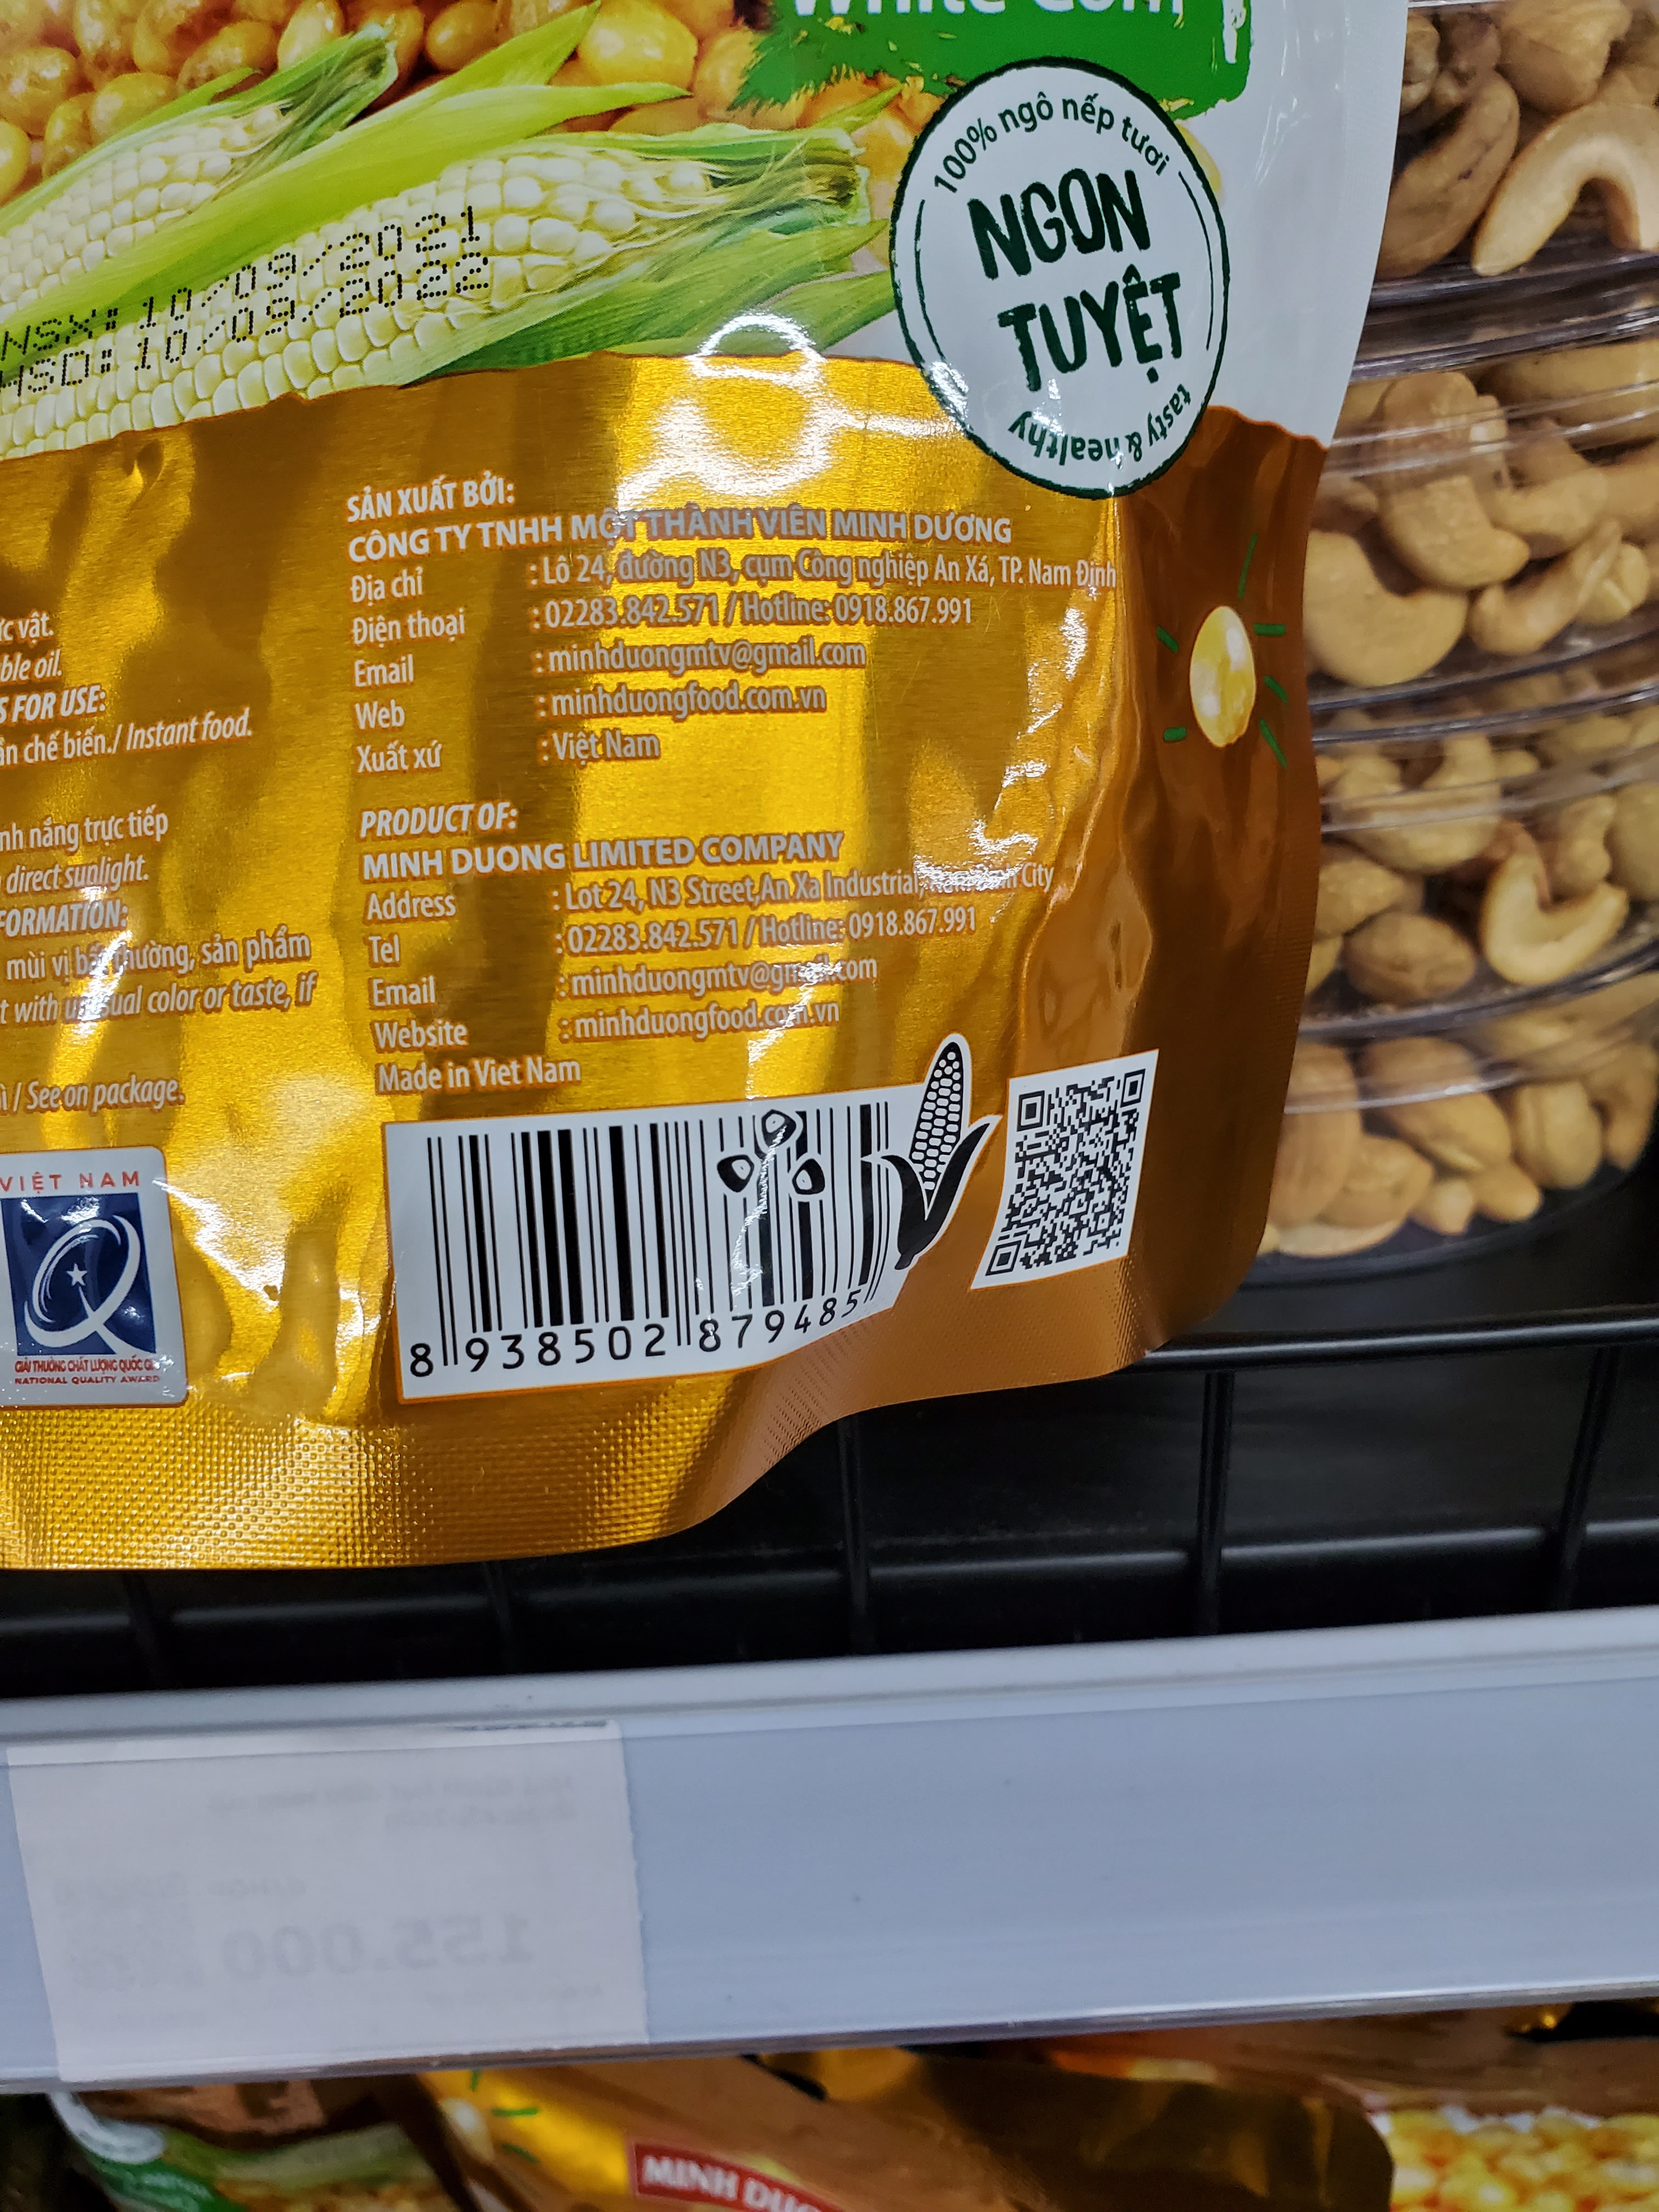barcode: (350, 1078, 946, 1393)
qr code: (979, 1050, 1178, 1284)
